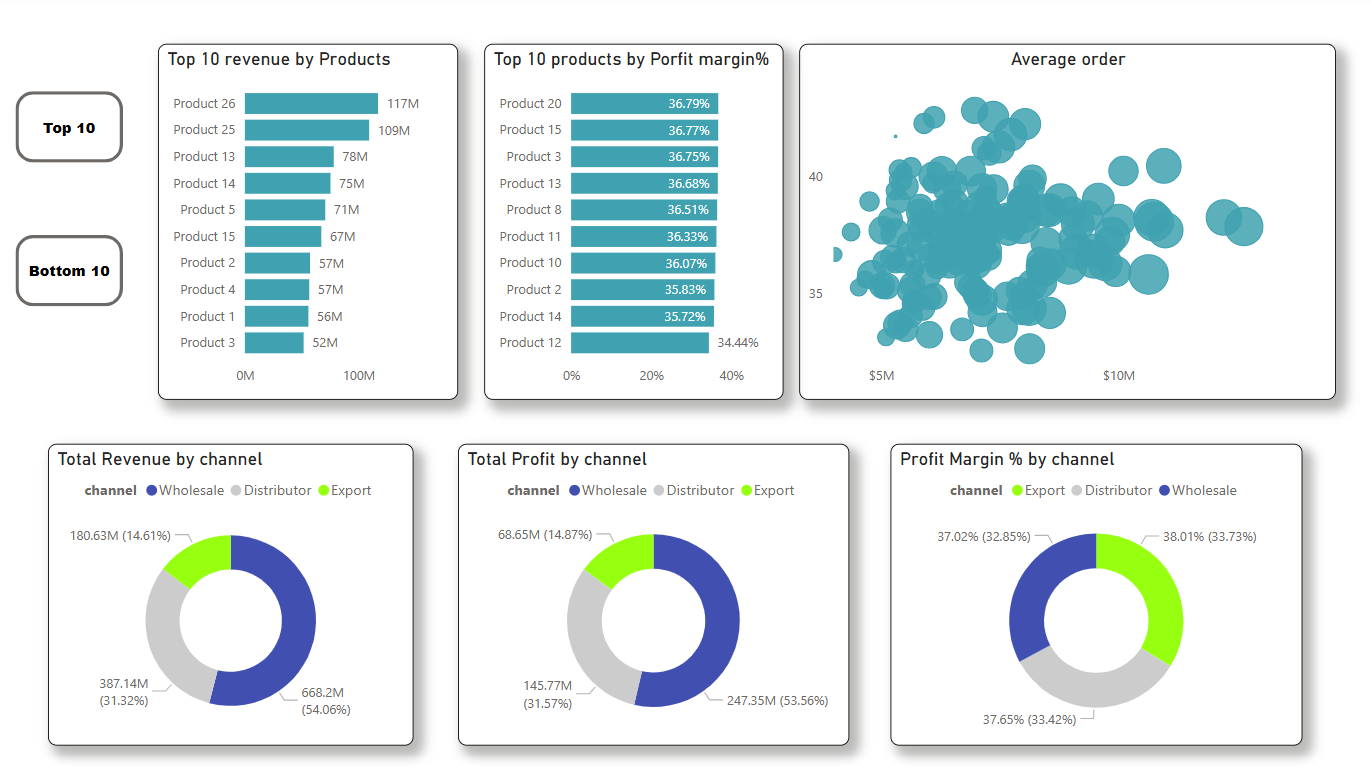

Layout of this report page (visuals, bound fields, positions):
{"tool":"powerbi","page":{"name":"Product performance","canvas":[1280,720],"ordinal":2},"visuals":[{"type":"donutChart","fields":{"Category":["Sales_data(EDA Exported) (1).channel"],"Y":["Custom.Total Revenue"]},"box":[46.4,417.2,340.3,280.4],"z":0},{"type":"donutChart","fields":{"Category":["Sales_data(EDA Exported) (1).channel"],"Y":["Custom.Total Profit"]},"box":[427.4,417.2,364.1,280.4],"z":1000},{"type":"donutChart","fields":{"Category":["Sales_data(EDA Exported) (1).channel"],"Y":["Custom.Profit Margin %"]},"box":[829.9,417.2,383.3,280.4],"z":2000},{"type":"barChart","title":"Top 10 revenue by Products","fields":{"Category":["Sales_data(EDA Exported) (1).product_name"],"Y":["Custom.Total Revenue"]},"box":[148.8,45.3,279.1,331.4],"z":3000},{"type":"scatterChart","title":"Average order ","fields":{"Y":["Sum(Customer Summary.Avg Profit Margin %)"],"X":["Customer Summary.Total Revenue"],"Size":["Sum(Customer Summary.Order Count)"]},"box":[745.4,45.3,498.8,331.4],"z":5000},{"type":"actionButton","box":[16.3,89.5,100,66.3],"z":6000},{"type":"actionButton","box":[16.3,223.3,100,66.3],"z":7000},{"type":"barChart","title":"Top 10 products by Porfit margin%","fields":{"Category":["Sales_data(EDA Exported) (1).product_name"],"Y":["Custom.Profit Margin %"]},"box":[451.8,45.9,278,331.4],"z":9000}]}

Visuals, with their boxes in screenshot pixels (x1, y1, x2, y2), scaled from the page's 1280x720 canvas onto the 1371x766 screenshot:
donutChart - Sales_data(EDA Exported) (1).channel x Custom.Total Revenue: rect(50, 444, 414, 742)
donutChart - Sales_data(EDA Exported) (1).channel x Custom.Total Profit: rect(458, 444, 848, 742)
donutChart - Sales_data(EDA Exported) (1).channel x Custom.Profit Margin %: rect(889, 444, 1299, 742)
"Top 10 revenue by Products" barChart: rect(159, 48, 458, 401)
"Average order " scatterChart: rect(798, 48, 1333, 401)
actionButton: rect(17, 95, 125, 166)
actionButton: rect(17, 238, 125, 308)
"Top 10 products by Porfit margin%" barChart: rect(484, 49, 782, 401)
